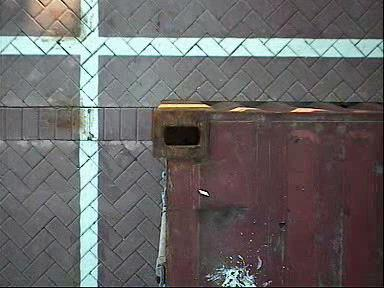groundmarker_2: (48, 136, 154, 206)
